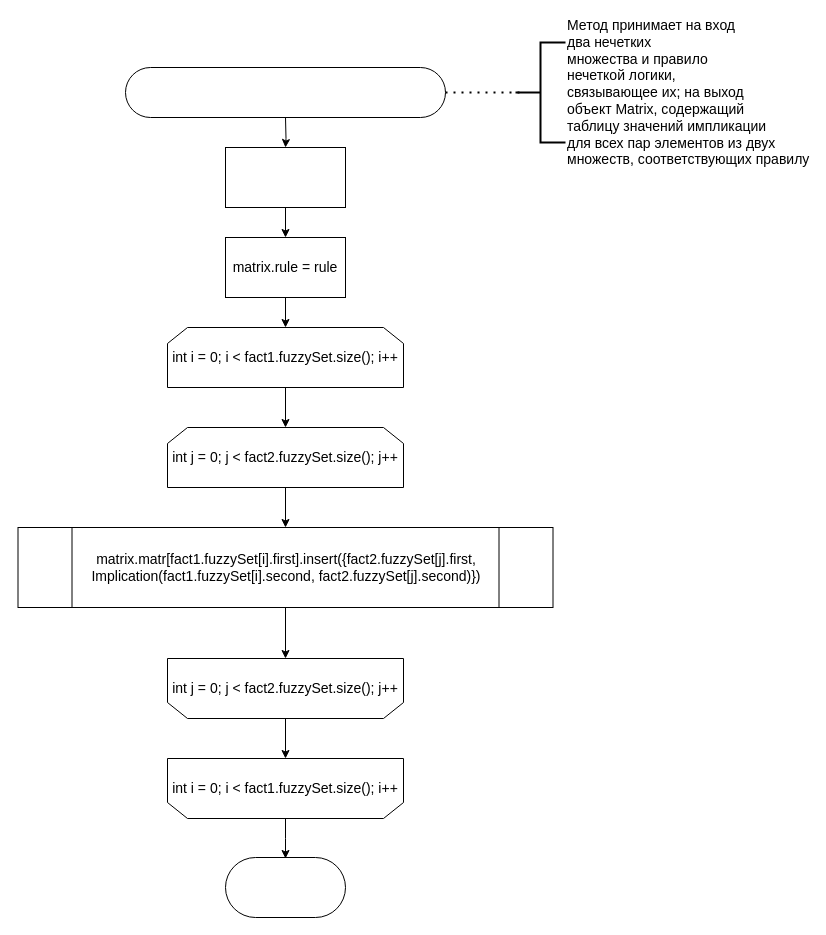
Image size: 826x935. Some labels were removed from this diagram. Each missing label, with the box of its shape:
createMatr(Fact& fact1, Fact& fact2, Rule& rule): (124, 66, 446, 118)
Matrix matrix: (224, 146, 346, 208)
return matrix: (224, 856, 346, 918)
